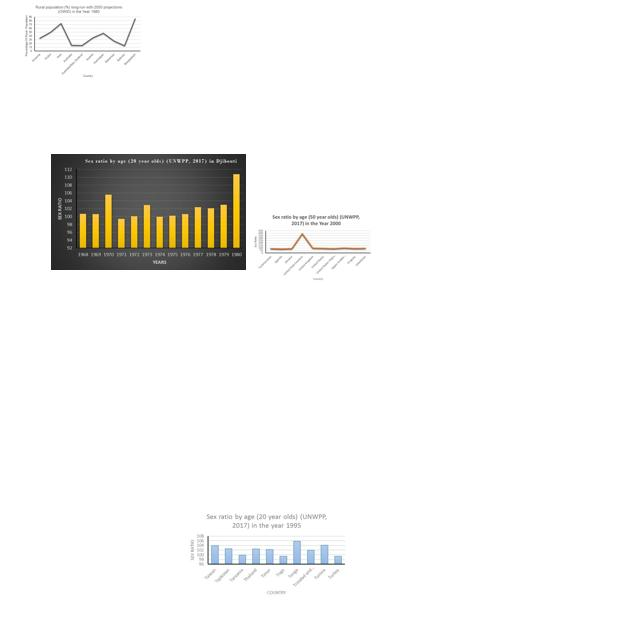Graph: (51, 154, 246, 270), (186, 509, 349, 598), (22, 3, 142, 79), (251, 212, 372, 282)
